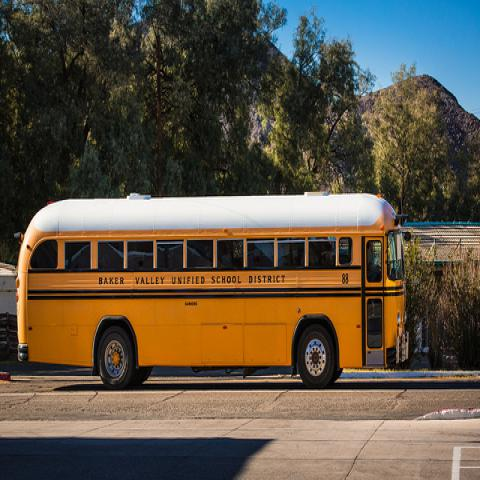bus: (13, 197, 413, 395)
